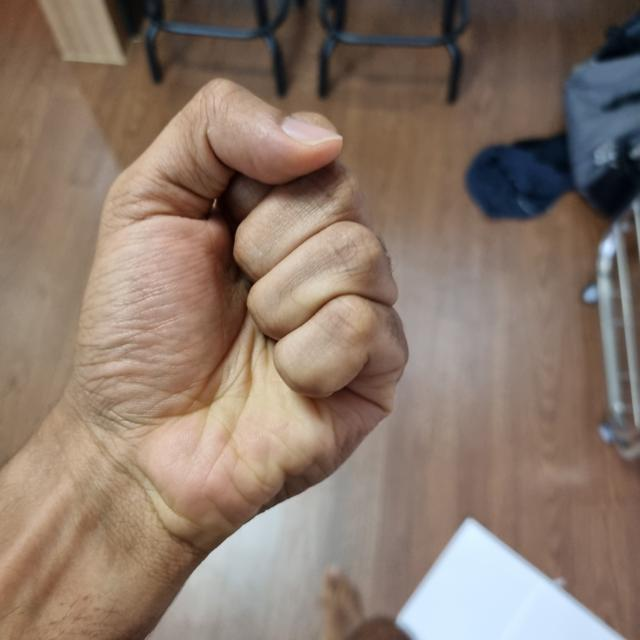Rock: (83, 81, 395, 537)
